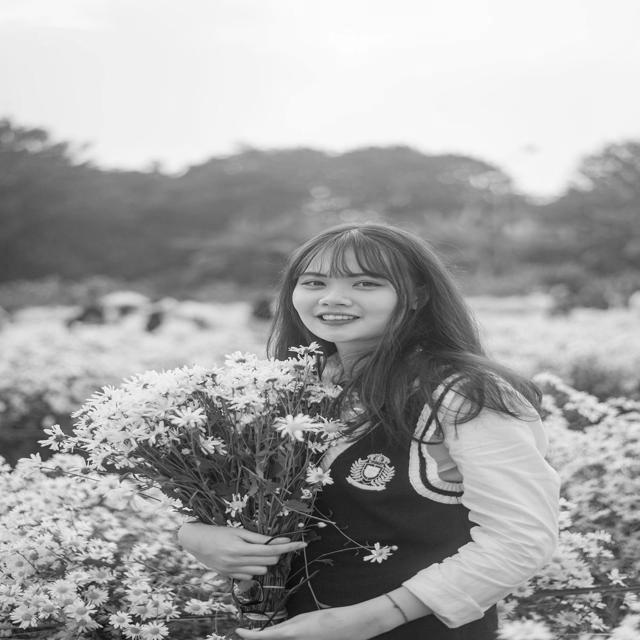Happiness: (287, 235, 403, 348)
